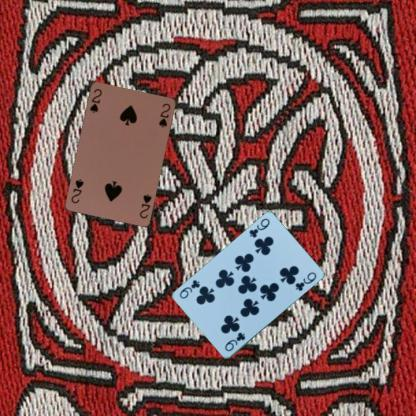2s: (87, 86, 103, 114), (137, 191, 152, 220)
9c: (222, 330, 247, 353), (247, 216, 271, 239)
